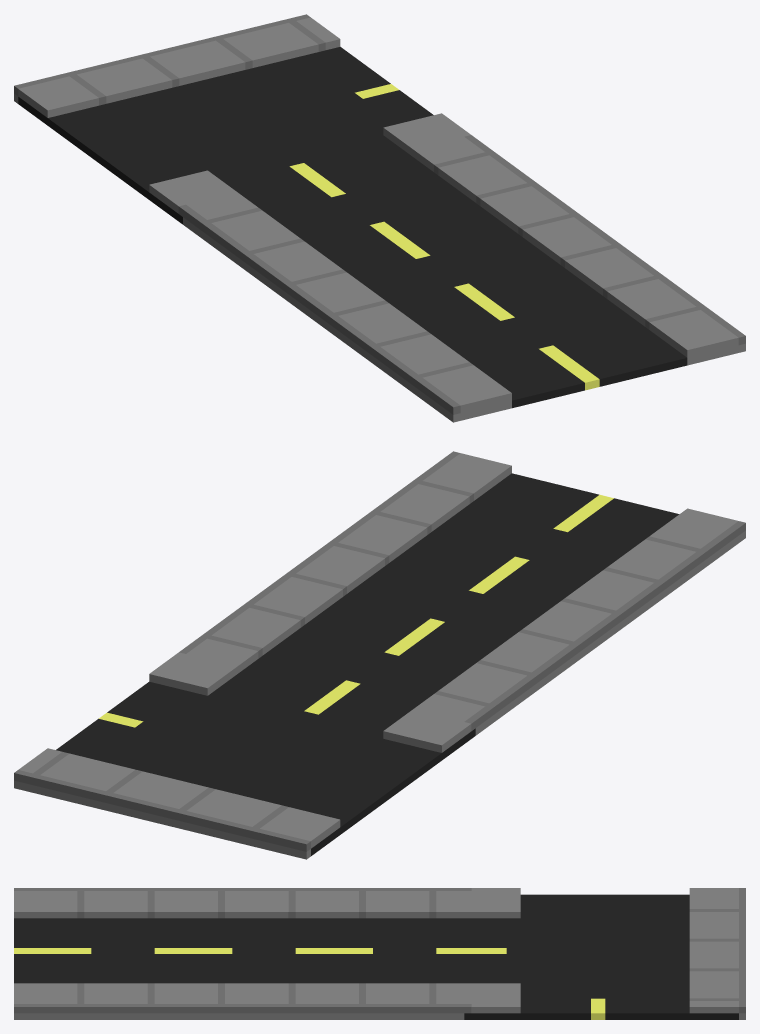
File: store_fill-2.obj
3 views of the same model, one above another, from view 1: azimuth 30°, elevation 25°; view 2: azimuth 150°, elevation 25°; view 3: azimuth 270°, elevation 25° (orthographic). The views are drawn at different scales.
Parts seen in each view (by area): view 1: store_fill-2; view 2: store_fill-2; view 3: store_fill-2.
Part boxes in pixels (x1,y1,x2,y2): store_fill-2: (14,14,745,422); store_fill-2: (14,451,745,859); store_fill-2: (14,888,745,1019).
Size of the model in its own units: 40 by 2 by 104.
Materials: 1 (1 with a texture image).
